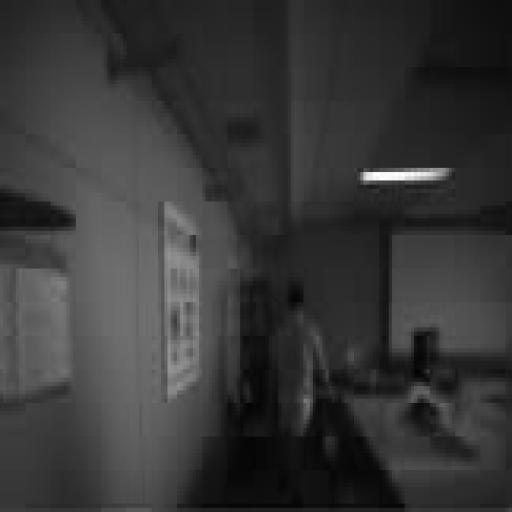human: (272, 282, 331, 503)
